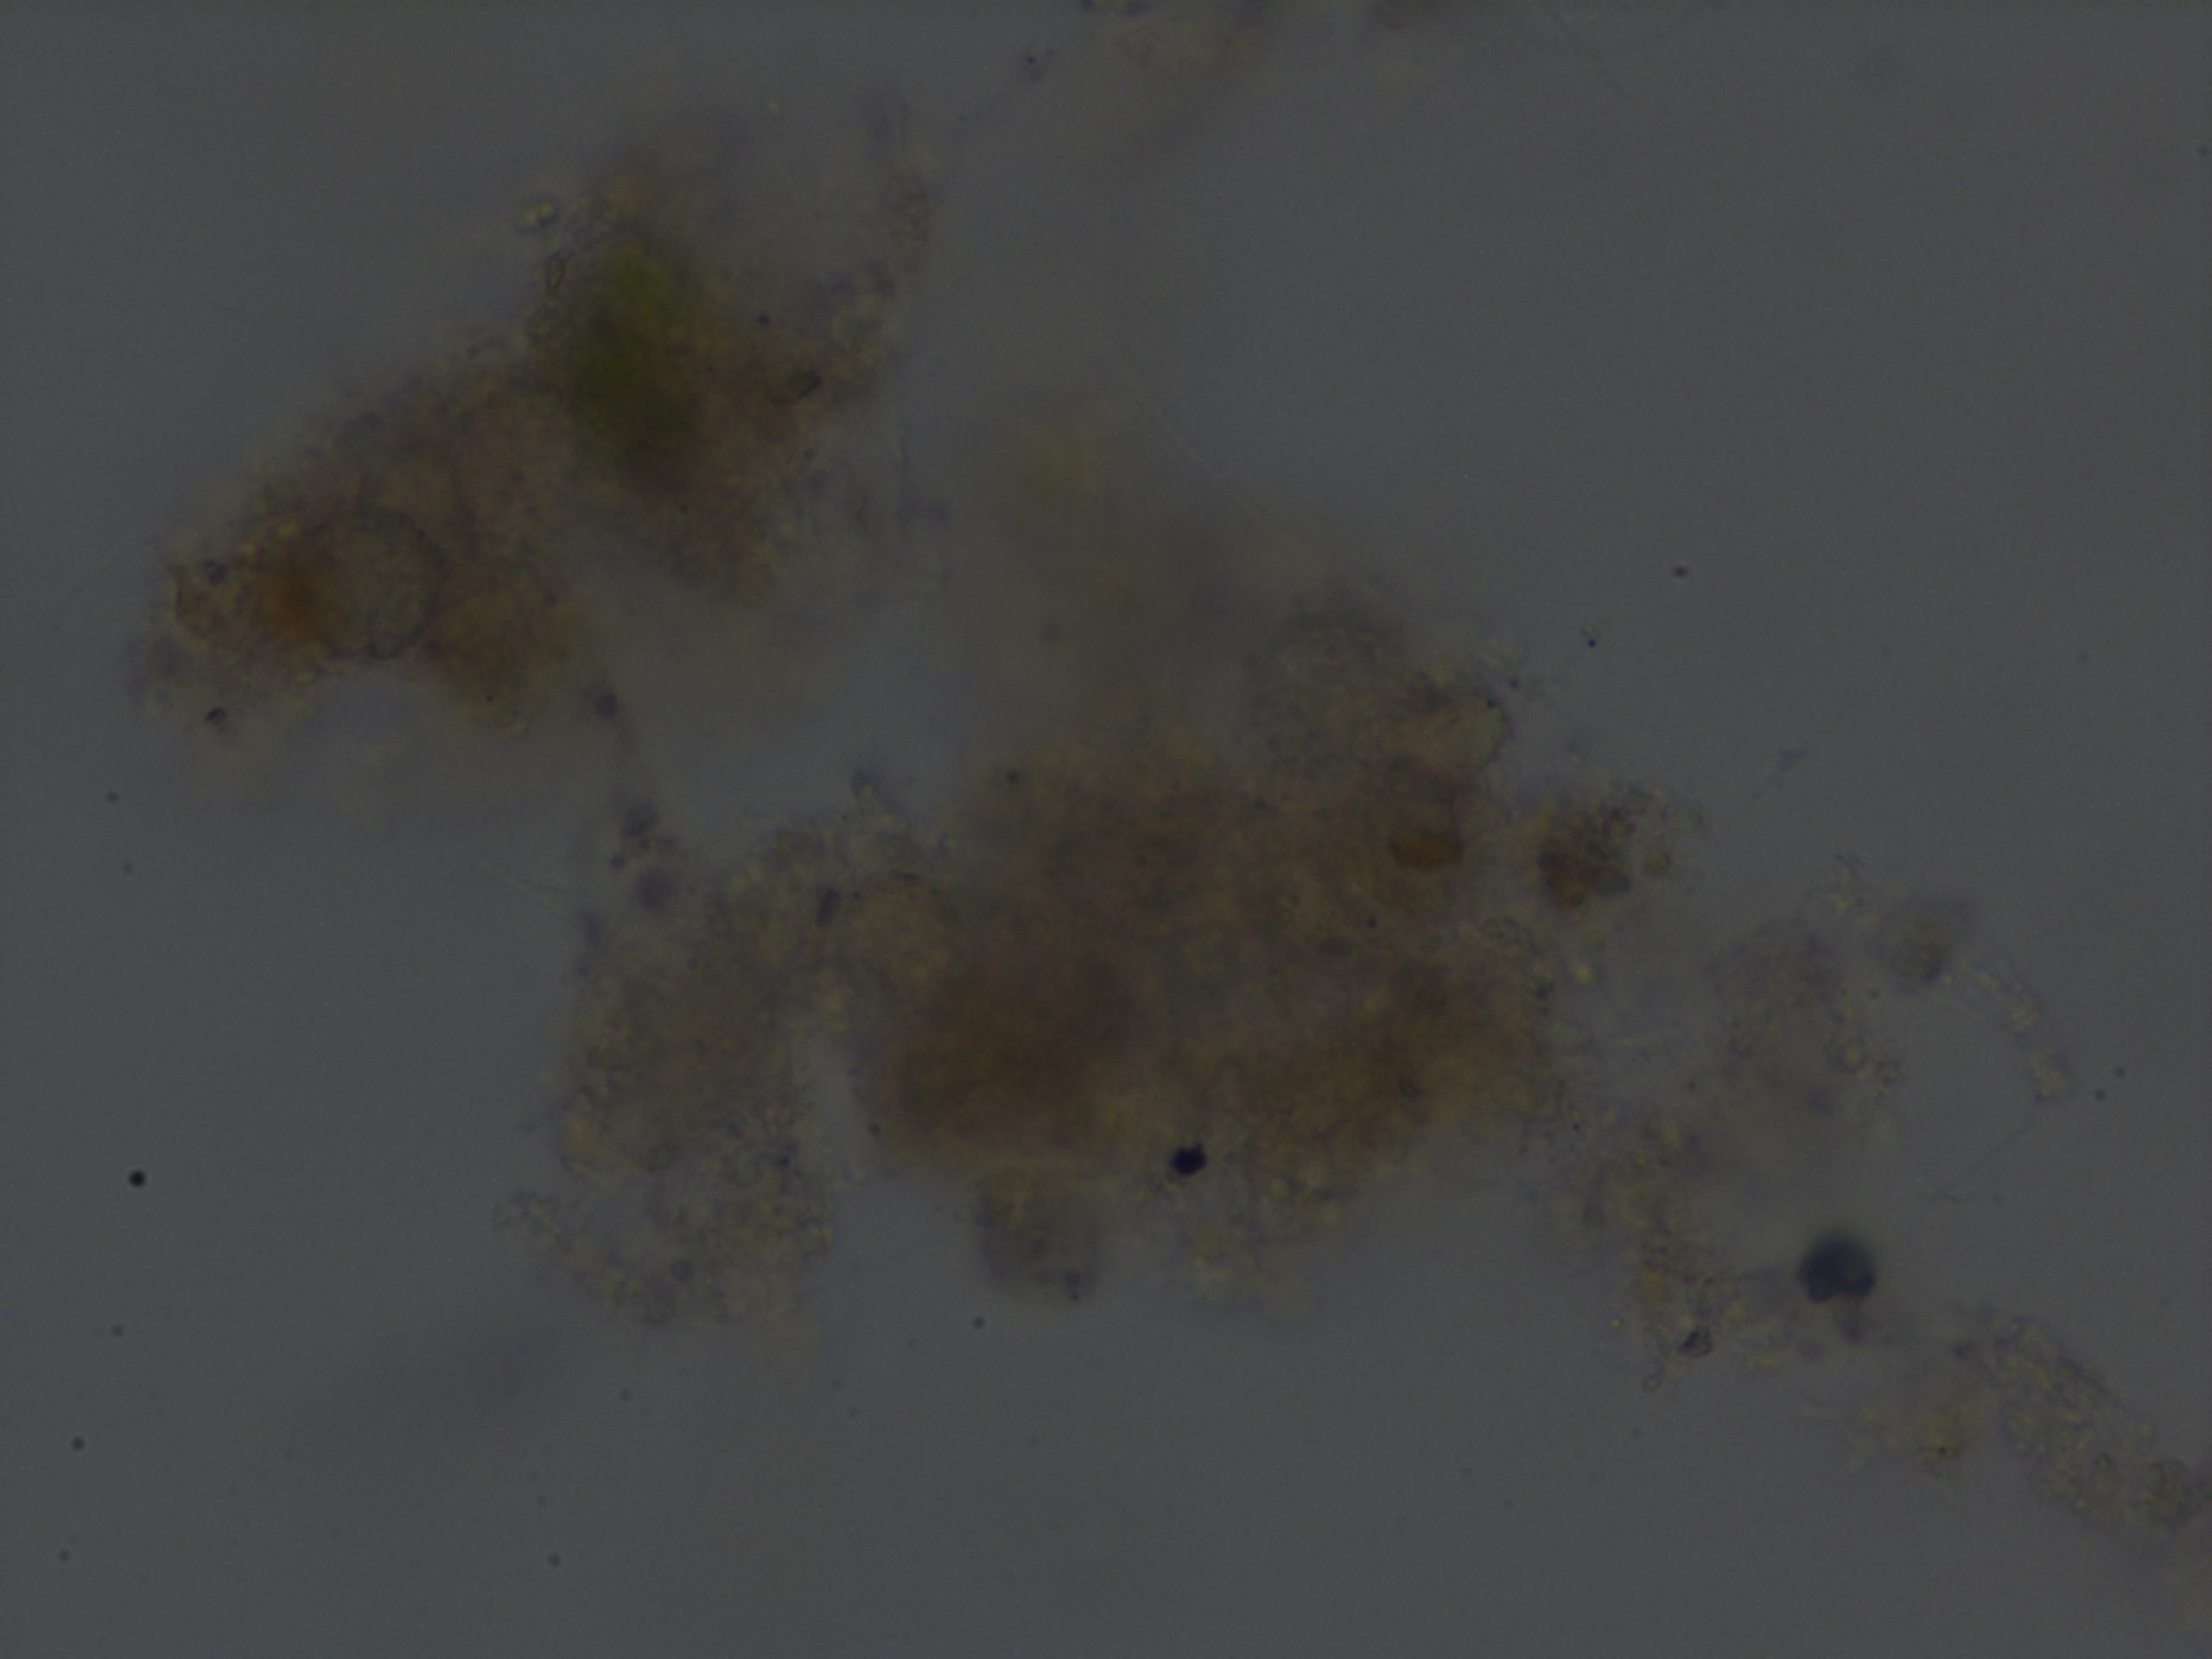open_floc: (148, 125, 2212, 1563)
